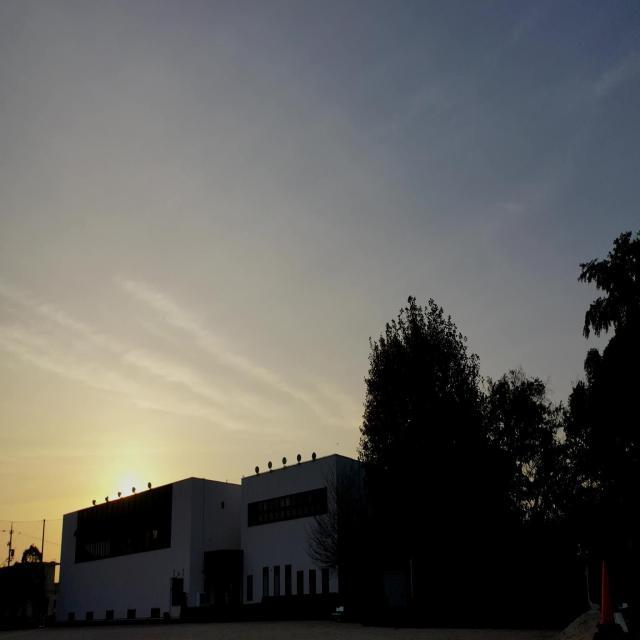Birds: (336, 441, 340, 446)
